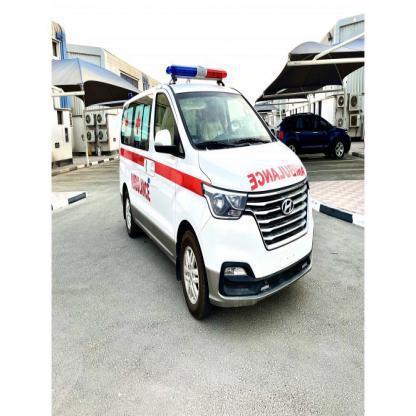ambulance_off: (120, 64, 315, 320)
